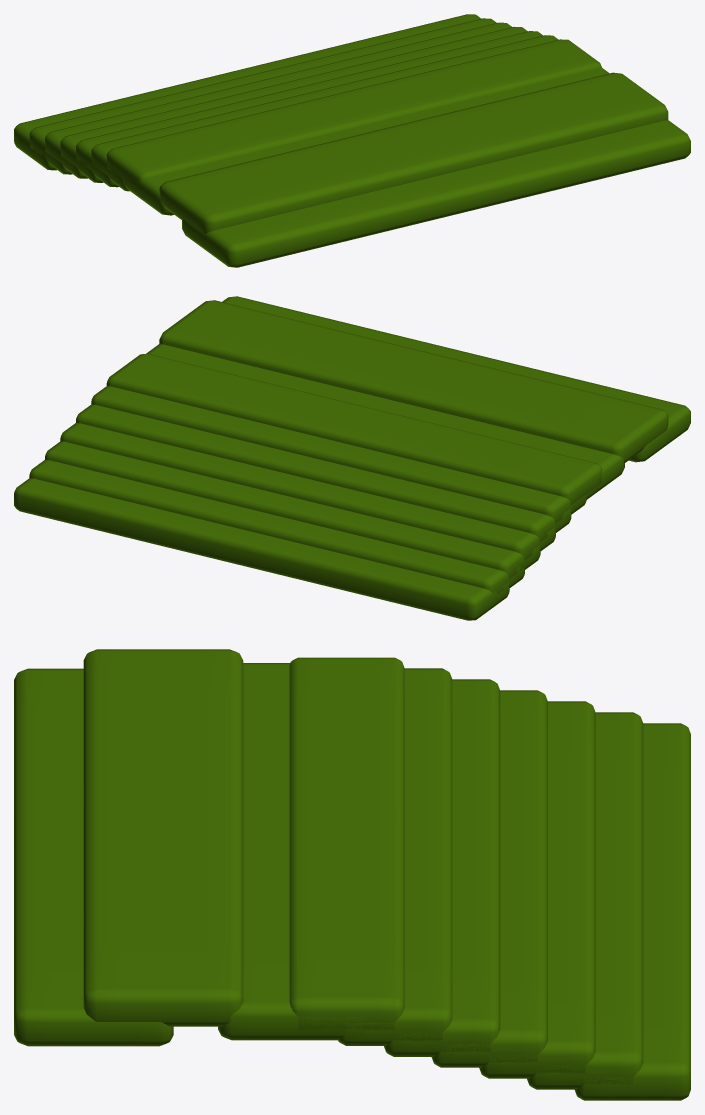
File: grassfloor 1.fbx
3 views of the same model, one above another, from view 1: azimuth 30°, elevation 25°; view 2: azimuth 150°, elevation 25°; view 3: azimuth 270°, elevation 25° (orthographic). The views are drawn at different scales.
Parts seen in each view (by area): view 1: grassfloor; view 2: grassfloor; view 3: grassfloor.
Part boxes in pixels (left/top/right/bottom): grassfloor: left=14, top=14, right=690, bottom=267; grassfloor: left=14, top=296, right=690, bottom=620; grassfloor: left=14, top=649, right=690, bottom=1100.
Size of the model in its own units: 97.19 by 14.31 by 79.73.
